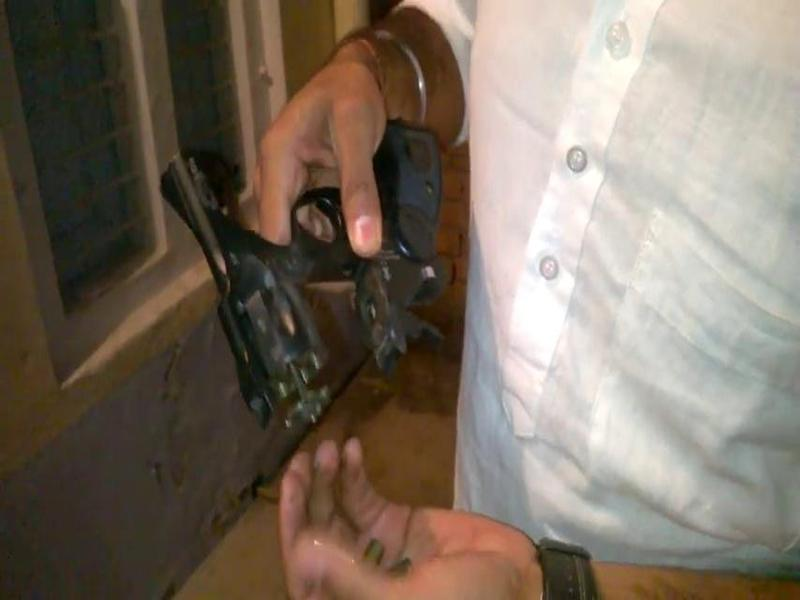Revolver: (137, 106, 344, 448)
